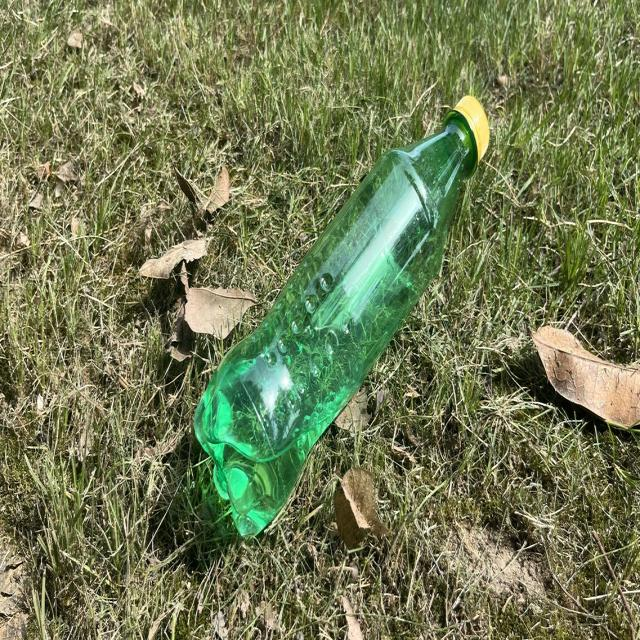low: (194, 96, 489, 534)
